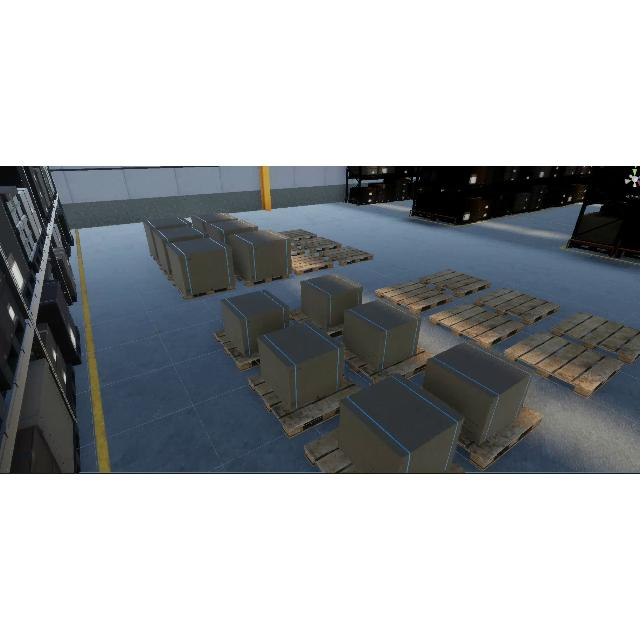wooden_pallet: (303, 425, 470, 474), (247, 371, 364, 440), (504, 331, 623, 398), (551, 312, 640, 364), (428, 301, 524, 349), (473, 287, 560, 327), (374, 278, 454, 315), (213, 329, 262, 373), (420, 268, 491, 298), (172, 279, 237, 301), (319, 245, 374, 266), (291, 253, 335, 275), (236, 271, 290, 287), (294, 236, 342, 253), (278, 228, 318, 243), (291, 244, 305, 257)
